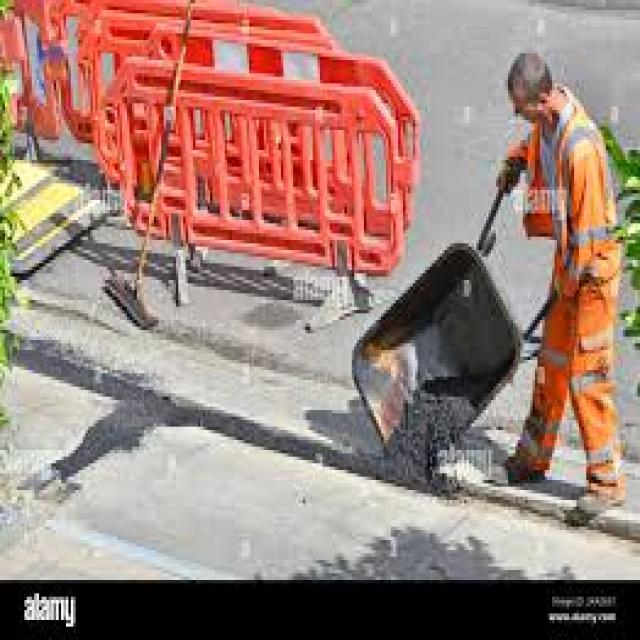Reflective-Jacket: (530, 87, 638, 383)
Safety-Helmet: (496, 37, 559, 110)
